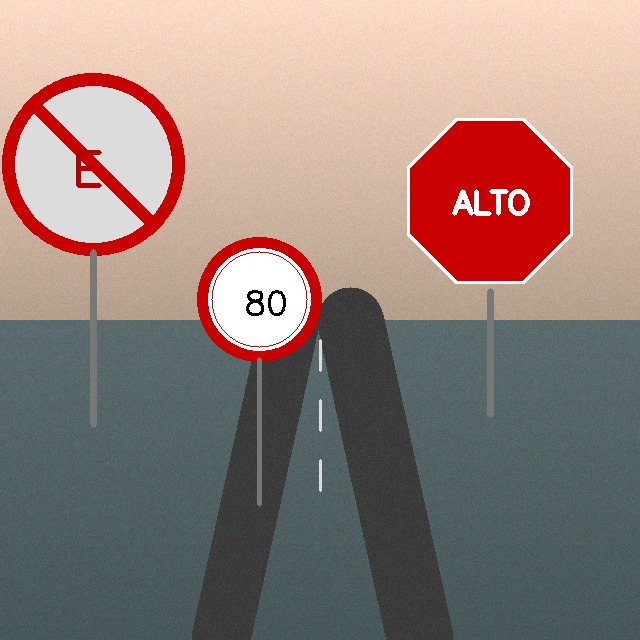alto: (400, 111, 580, 291)
no_estacionar: (6, 77, 181, 252)
velocidad: (200, 240, 319, 359)
